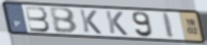9: (132, 11, 155, 38)
B: (48, 7, 80, 35), (24, 5, 52, 33)
I: (161, 12, 176, 40)
K: (104, 10, 130, 37), (78, 9, 104, 36)
